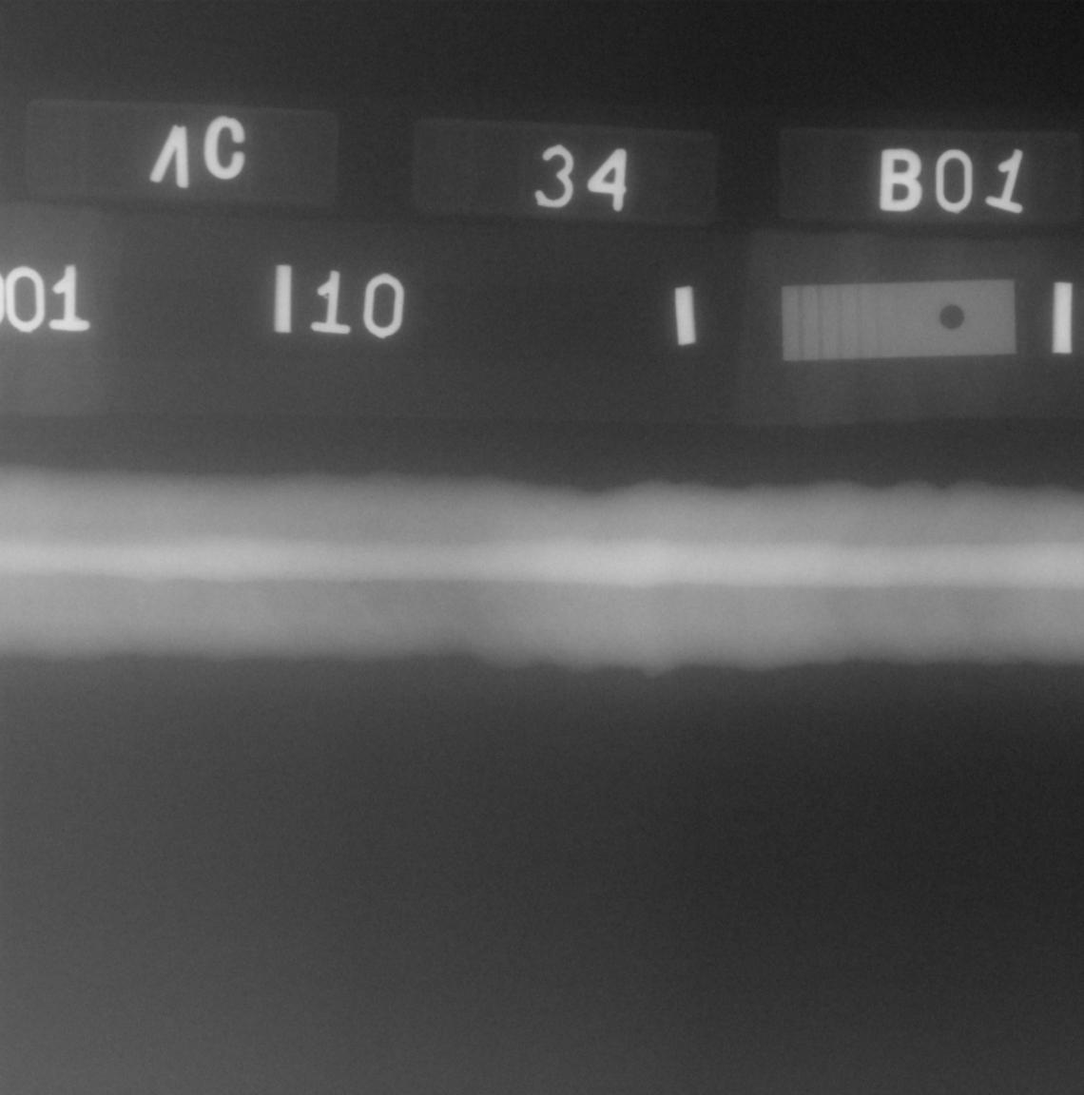Pore/Porosity: (350, 578, 359, 589)
Reference Standard 1: (780, 279, 1016, 361)
